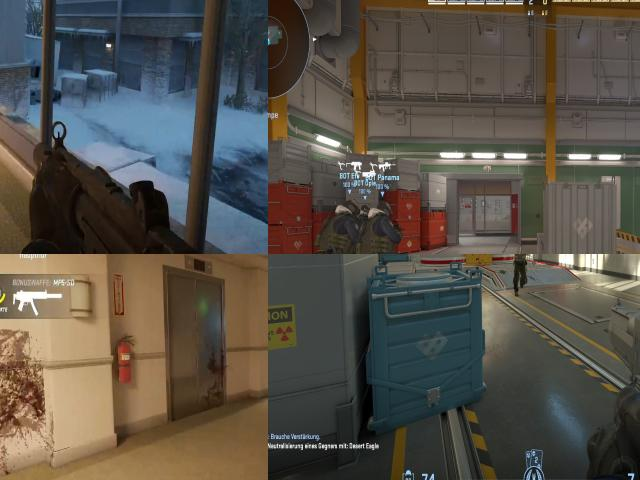Bomb: (499, 268, 507, 276)
CT: (314, 200, 353, 254), (365, 205, 394, 254), (357, 202, 367, 254)
CT-Head: (372, 202, 388, 220), (337, 200, 357, 214), (360, 203, 370, 216)
T: (513, 254, 527, 294)
